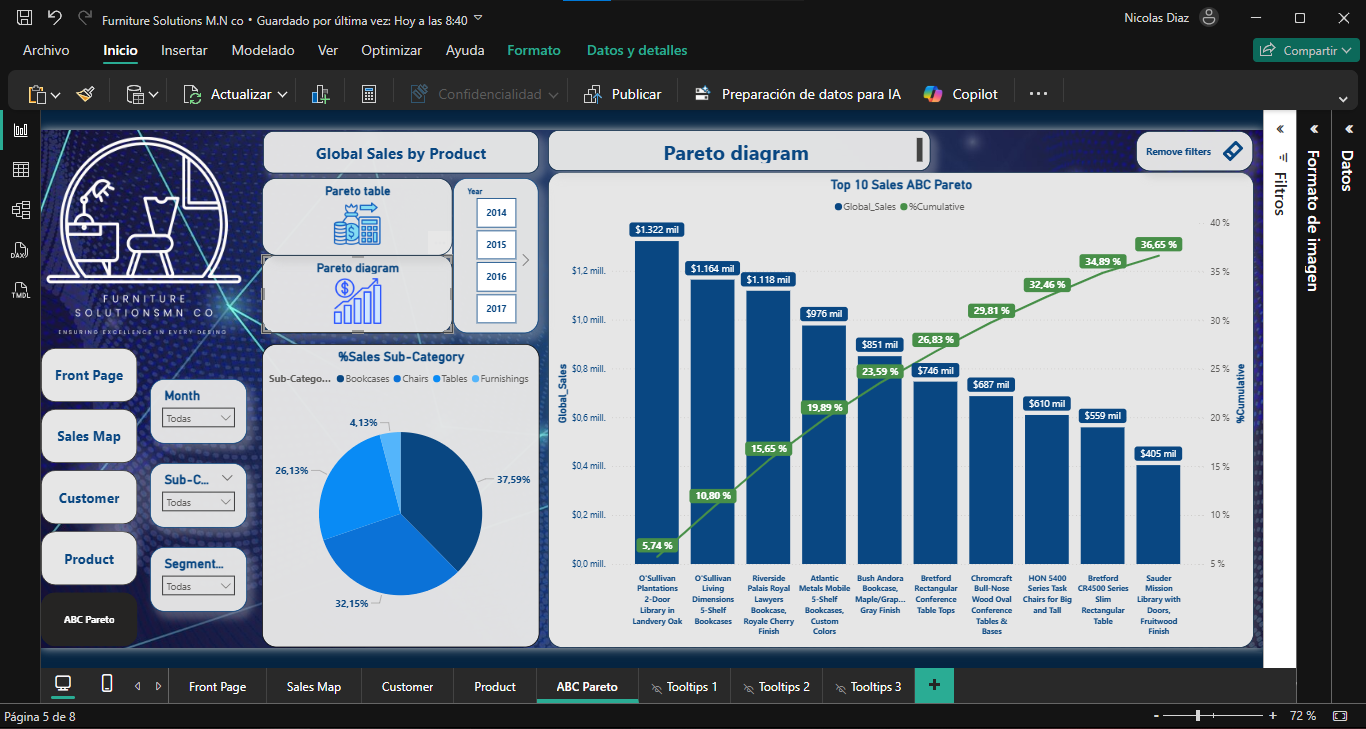

The page's visual inventory and layout, read from the dashboard file:
{"tool":"powerbi","page":{"name":"ABC Pareto","canvas":[1700,720],"ordinal":4},"visuals":[{"type":"tableEx","title":"Pareto classification of products","fields":{"Values":["Product_Table.Product Name","Measures Table.%Cumulative","Measures Table.ABC Classification","Measures Table.Global_Quantity","Measures Table.Max Qty","Measures Table.Average Qty","Measures Table.Median"]},"box":[705.4,66.8,980.9,653.9],"z":0},{"type":"pageNavigator","box":[0,302.8,134.8,417.2],"z":2000},{"type":"image","box":[0,0,286.2,297.2],"z":3000},{"type":"textbox","box":[308.3,1.8,384,59.1],"z":4000},{"type":"actionButton","box":[1524,2,163,56],"z":5000},{"type":"pieChart","title":"%Sales Sub-Category","fields":{"Category":["Product_Table.Sub-Category"],"Y":["Measures Table.Global_Sales"]},"box":[307.2,297.6,385.6,422.4],"z":6000},{"type":"image","title":"Pareto diagram","box":[307.5,173.8,265,108.8],"z":7000},{"type":"image","title":"Pareto table","box":[307.5,66.2,265,107.5],"z":8000},{"type":"slicer","fields":{"Values":["Calendario.Date.Variación.Jerarquía de fechas.Año"]},"box":[573.8,66.2,118.8,216.2],"z":9000},{"type":"slicer","fields":{"Values":["Parámetro.Parámetro"]},"box":[705,0,789,60],"z":10000},{"type":"slicer","fields":{"Values":["Calendar.Date.Variación.Jerarquía de fechas.Mes"]},"box":[151.4,347.1,134.8,90.5],"z":12000},{"type":"slicer","fields":{"Values":["Product Table.Sub-Category"]},"box":[151.4,463.4,134.8,90.5],"z":13000},{"type":"slicer","fields":{"Values":["Customer Table.Segment"]},"box":[151.4,579.7,134.8,90.5],"z":14000}]}

Visuals, with their boxes on the page's 1700x720 design canvas (x1, y1, x2, y2). These are canvas units, not pixel positions in the 1366x729 screenshot, which may show the page scaled, cropped or inside an application window:
"Pareto classification of products" tableEx: (left=705, top=67, right=1686, bottom=721)
pageNavigator: (left=0, top=303, right=135, bottom=720)
image: (left=0, top=0, right=286, bottom=297)
textbox: (left=308, top=2, right=692, bottom=61)
actionButton: (left=1524, top=2, right=1687, bottom=58)
"%Sales Sub-Category" pieChart: (left=307, top=298, right=693, bottom=720)
"Pareto diagram" image: (left=308, top=174, right=572, bottom=283)
"Pareto table" image: (left=308, top=66, right=572, bottom=174)
slicer - Calendario.Date.Variación.Jerarquía de fechas.Año: (left=574, top=66, right=693, bottom=282)
slicer - Parámetro.Parámetro: (left=705, top=0, right=1494, bottom=60)
slicer - Calendar.Date.Variación.Jerarquía de fechas.Mes: (left=151, top=347, right=286, bottom=438)
slicer - Product Table.Sub-Category: (left=151, top=463, right=286, bottom=554)
slicer - Customer Table.Segment: (left=151, top=580, right=286, bottom=670)
